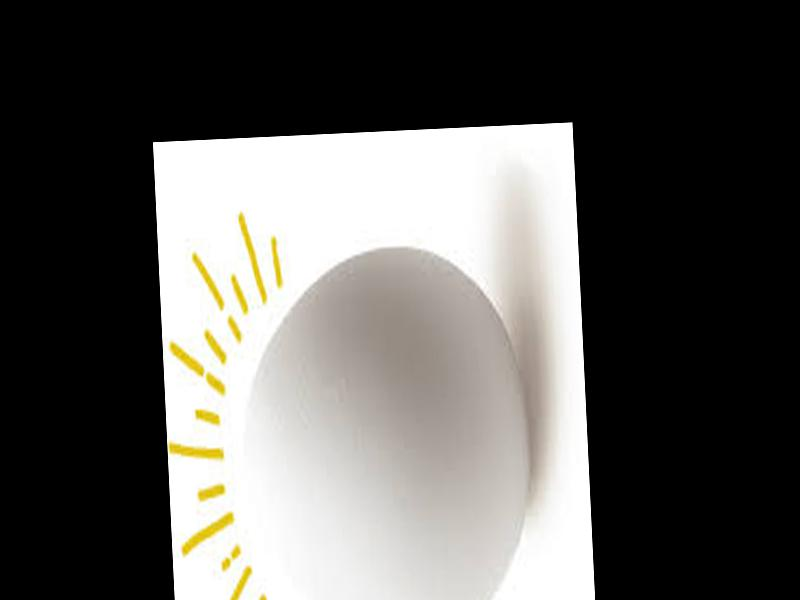Eggs: (237, 241, 538, 600)
